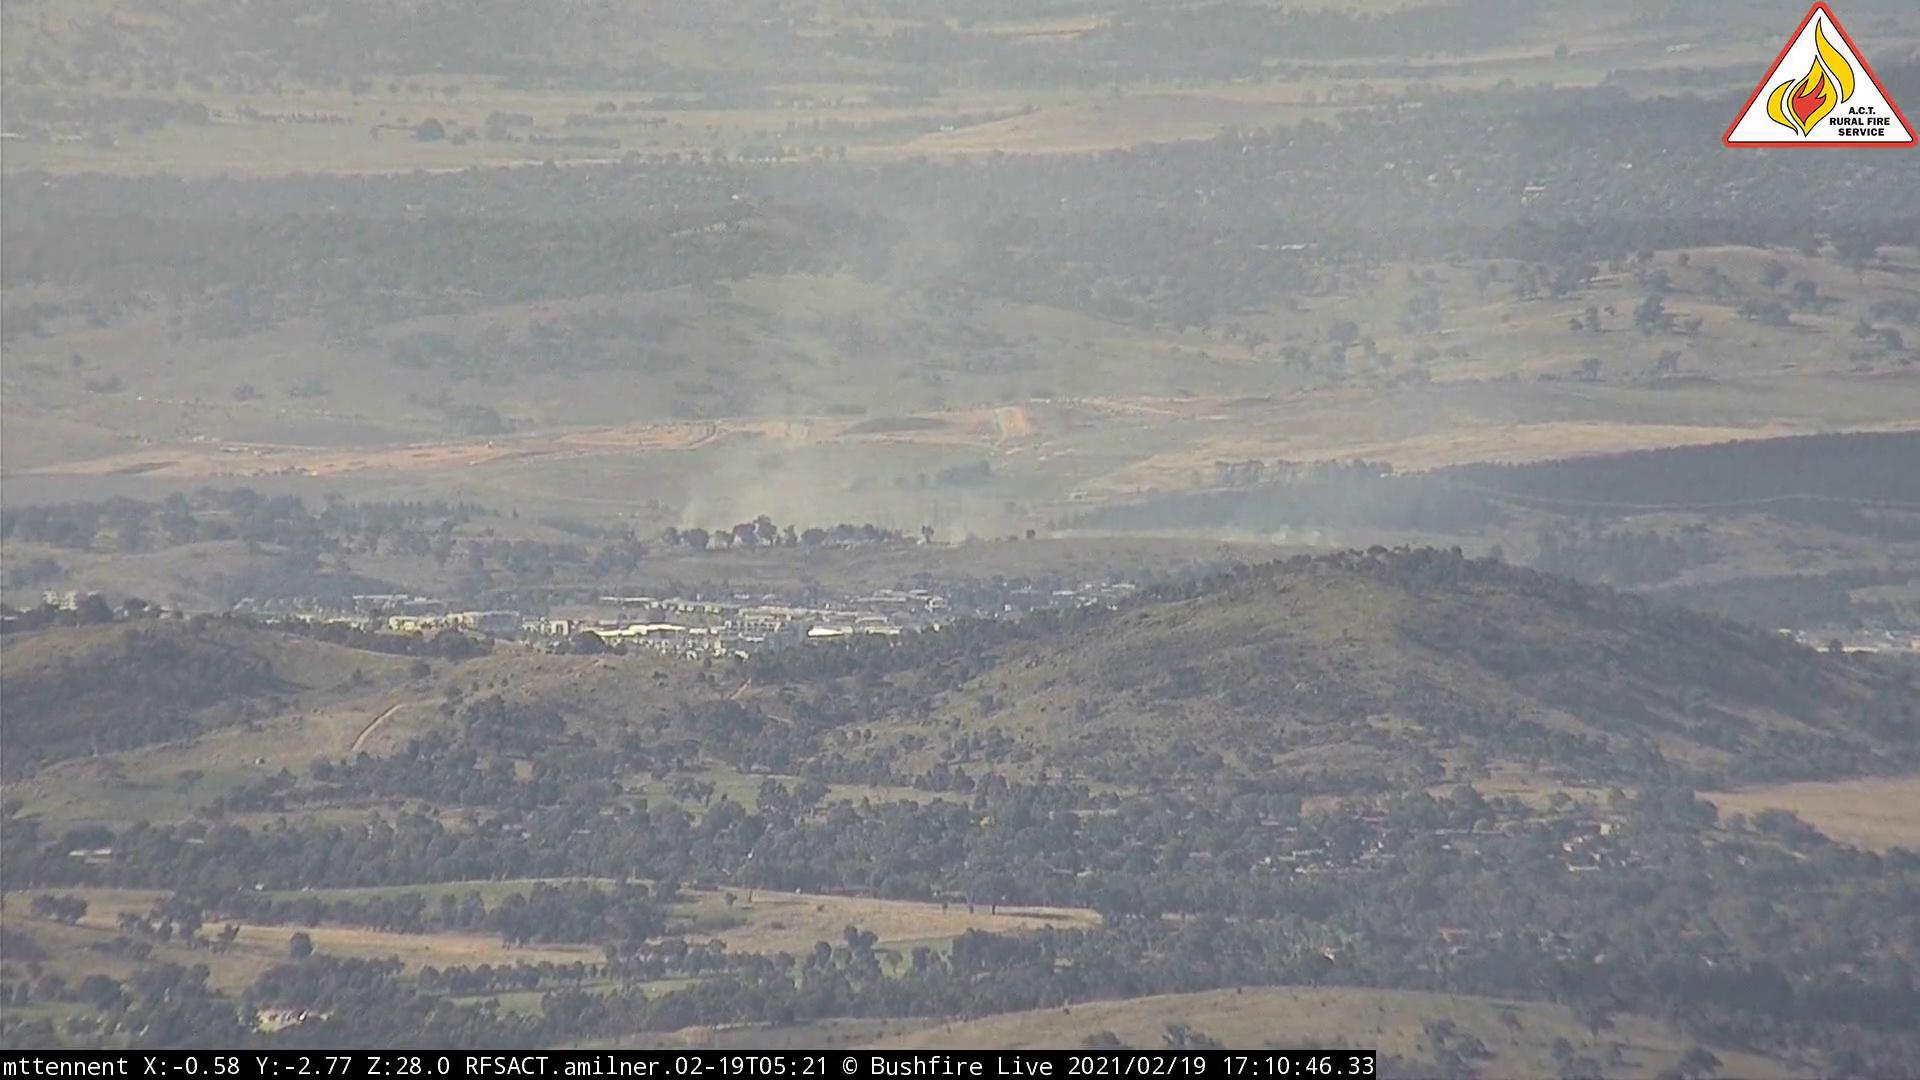instance_salient_object: (674, 392, 1102, 547), (1215, 448, 1435, 553)
